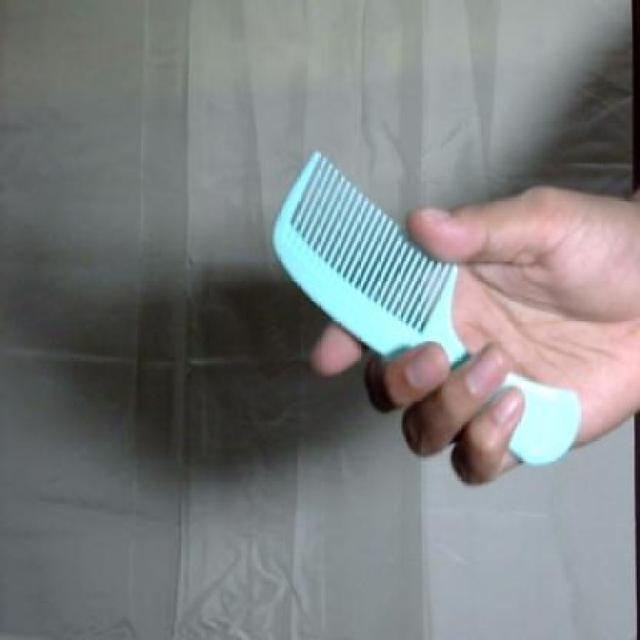Plastic: (272, 150, 583, 466)
